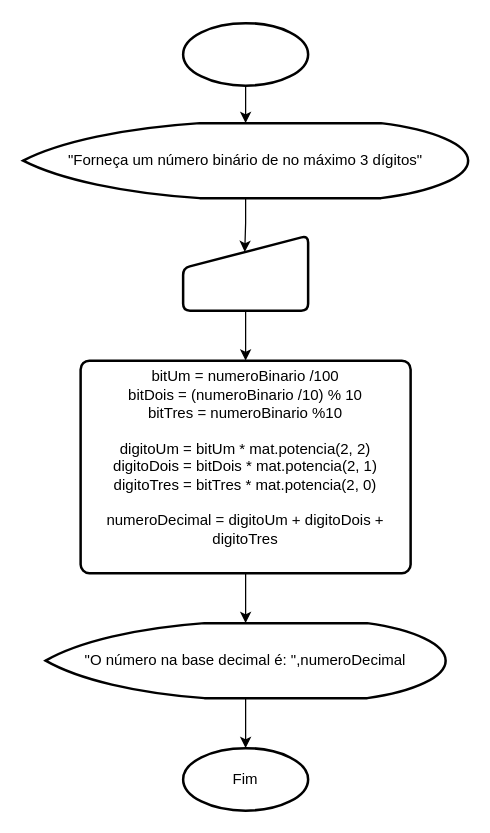
Some shapes in this 490 by 833 pixel diagram are drawn without their labels. The shapes that lost their labels are listed below. From the top down, each one's centre as x and y in pixels, then its label:
At (x=245, y=53): "Inicio".
At (x=245, y=272): "numeroBinario".
